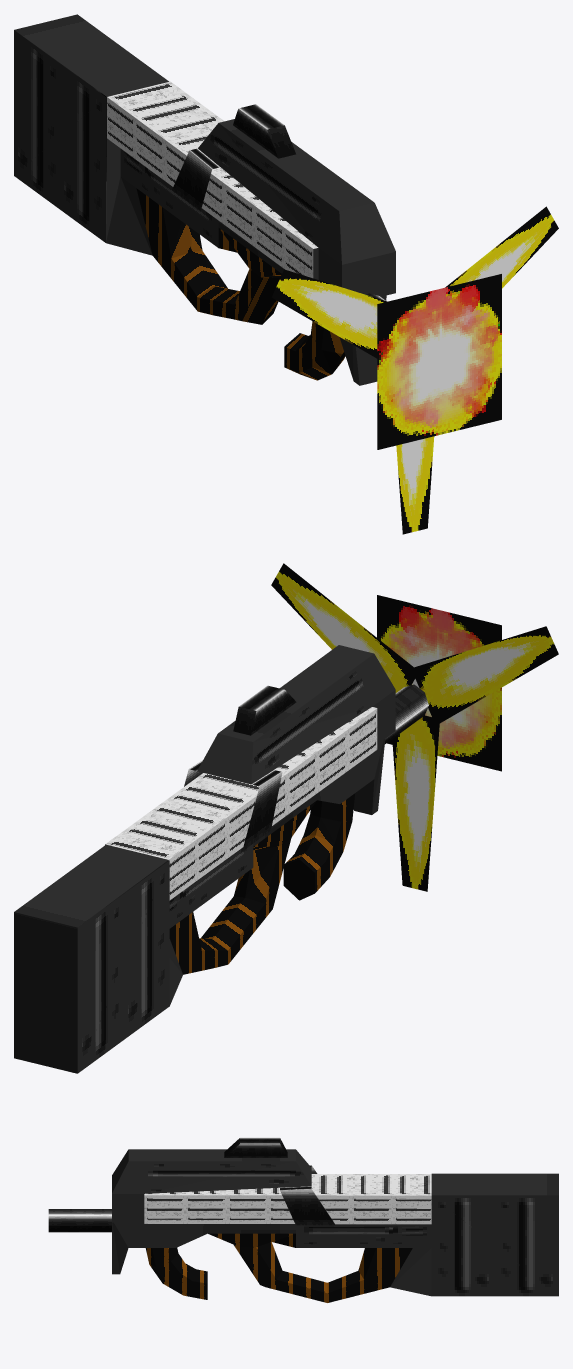
The model's file is muzzle.glb.
The picture shows the model from 3 angles, top to bottom: view 1: azimuth 30°, elevation 25°; view 2: azimuth 150°, elevation 25°; view 3: azimuth 270°, elevation 25°; orthographic projection. The views are drawn at different scales.
Visible parts, largest first — view 1: Room1D_primary, Room04_primary, Room11_primary, Room05_primary, Room19_primary, Room10_primary, Room14_primary, Room17_primary, Room1A_primary, Room13_primary, Room12_primary, Room1B_primary; view 2: Room1D_primary, Room05_primary, Room11_primary, Room10_primary, Room04_primary, Room19_primary, Room17_primary, Room1A_primary, Room14_primary, Room13_primary, Room12_primary, Room1C_primary (+1 smaller); view 3: Room1D_primary, Room11_primary, Room17_primary, Room10_primary, Room19_primary, Room14_primary, Room1A_primary, Room1C_primary, Room0D_primary, Room13_primary, Room1B_primary.
Boxes of the visible parts, left/top/right/bottom form: Room1D_primary: left=14, top=14, right=168, bottom=242; Room04_primary: left=377, top=274, right=501, bottom=449; Room11_primary: left=107, top=81, right=318, bottom=279; Room05_primary: left=271, top=206, right=558, bottom=534; Room19_primary: left=106, top=176, right=279, bottom=324; Room10_primary: left=189, top=119, right=362, bottom=247; Room14_primary: left=318, top=194, right=395, bottom=296; Room17_primary: left=120, top=149, right=284, bottom=277; Room1A_primary: left=284, top=321, right=345, bottom=380; Room13_primary: left=233, top=104, right=295, bottom=158; Room12_primary: left=172, top=150, right=211, bottom=210; Room1B_primary: left=339, top=295, right=386, bottom=385; Room1D_primary: left=14, top=844, right=169, bottom=1073; Room05_primary: left=271, top=563, right=558, bottom=891; Room11_primary: left=105, top=707, right=377, bottom=900; Room10_primary: left=189, top=653, right=372, bottom=786; Room04_primary: left=377, top=595, right=501, bottom=771; Room19_primary: left=169, top=838, right=291, bottom=1005; Room17_primary: left=120, top=740, right=383, bottom=928; Room1A_primary: left=283, top=793, right=354, bottom=900; Room14_primary: left=328, top=645, right=395, bottom=744; Room13_primary: left=233, top=685, right=296, bottom=735; Room12_primary: left=242, top=772, right=282, bottom=851; Room1C_primary: left=384, top=684, right=428, bottom=744; Room1D_primary: left=431, top=1173, right=558, bottom=1296; Room11_primary: left=144, top=1174, right=431, bottom=1224; Room17_primary: left=114, top=1222, right=431, bottom=1247; Room10_primary: left=144, top=1149, right=311, bottom=1193; Room19_primary: left=234, top=1242, right=431, bottom=1302; Room14_primary: left=112, top=1149, right=144, bottom=1222; Room1A_primary: left=145, top=1247, right=207, bottom=1299; Room1C_primary: left=48, top=1209, right=111, bottom=1232; Room0D_primary: left=280, top=1189, right=335, bottom=1225; Room13_primary: left=224, top=1137, right=287, bottom=1157; Room1B_primary: left=112, top=1222, right=128, bottom=1274.
Bounding box in the file's own units: 276 × 278 × 655.
Materials: 11 (11 with a texture image).
